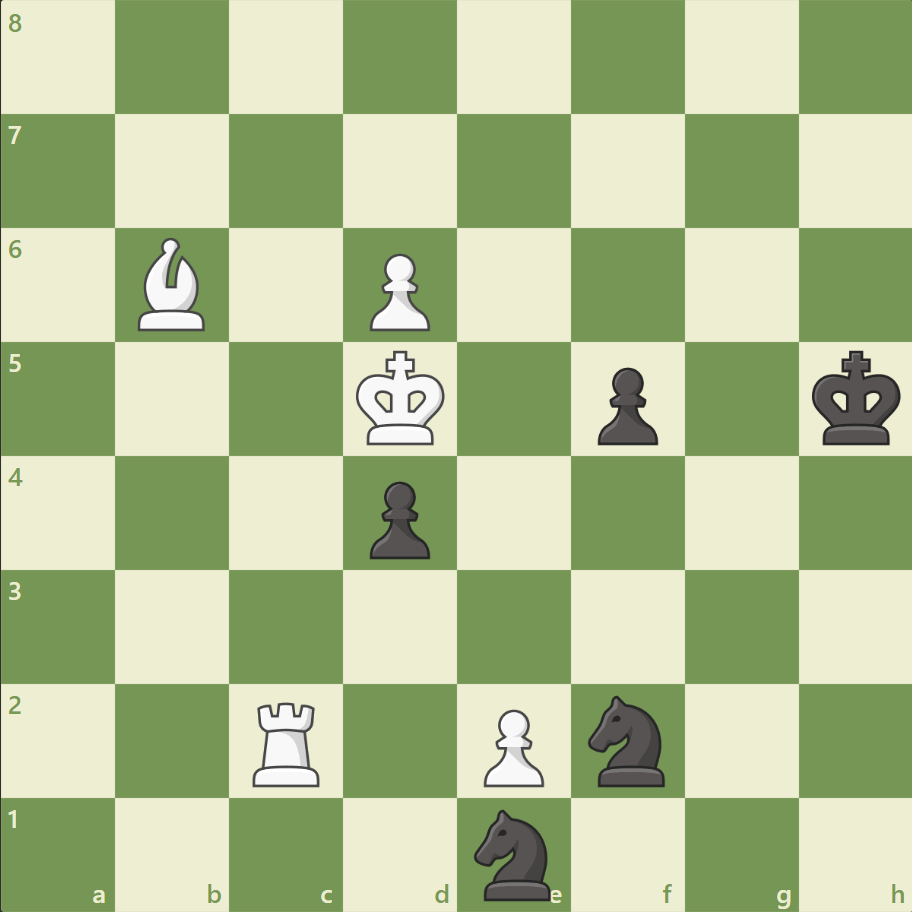B: (131, 233, 215, 336)
K: (351, 344, 451, 452)
P: (474, 700, 549, 791), (361, 246, 435, 337)
R: (246, 693, 329, 790)
k: (806, 344, 906, 452)
n: (579, 688, 676, 791), (465, 802, 562, 904)
p: (588, 359, 662, 450), (361, 473, 435, 564)
